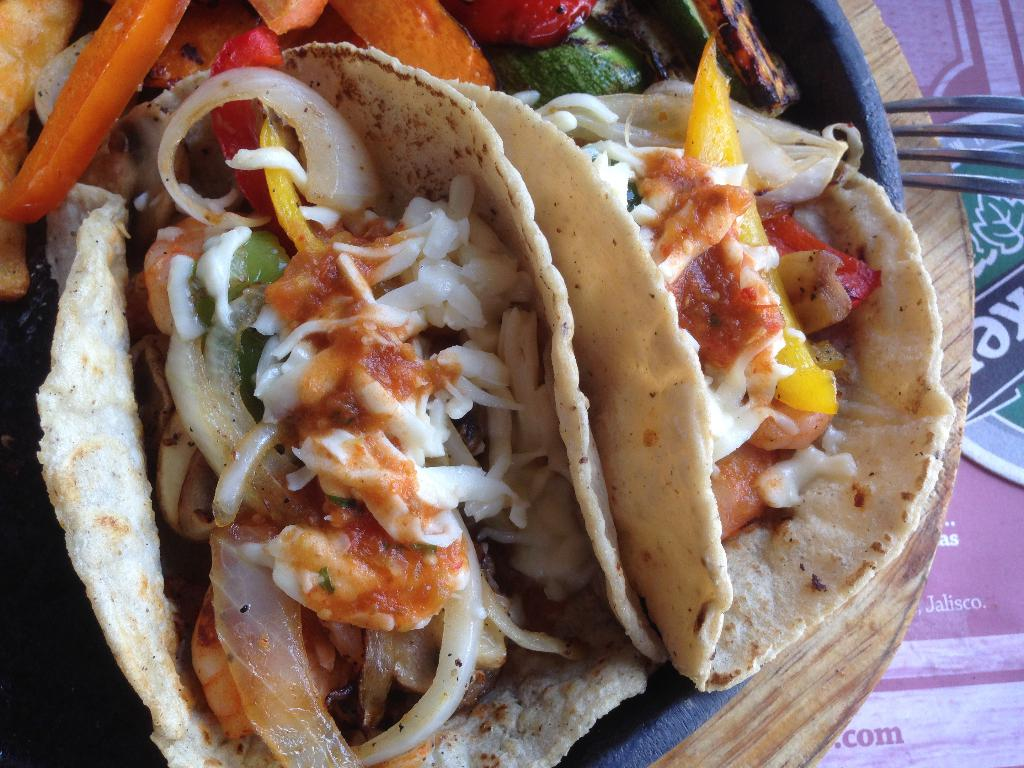taco: (58, 29, 653, 767), (446, 24, 959, 693)
